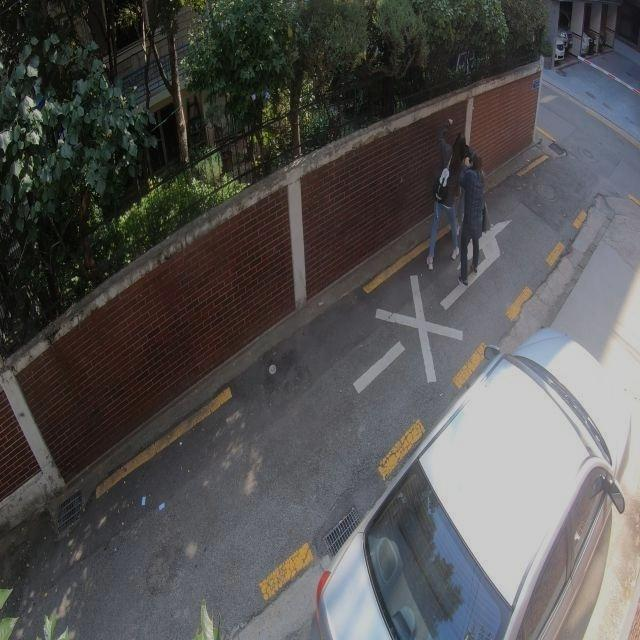fight: (426, 138, 491, 286)
